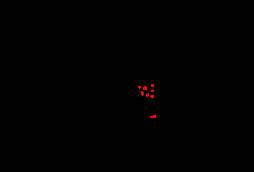Target: (150, 115, 156, 118), (143, 86, 147, 90), (141, 91, 144, 96), (146, 93, 149, 97), (150, 95, 154, 98), (151, 84, 154, 87), (138, 86, 141, 89), (151, 90, 154, 92)
